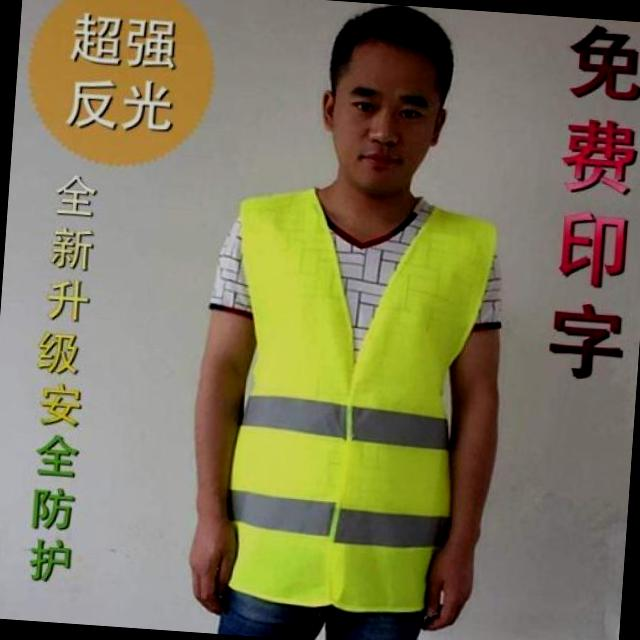no-gloves: (413, 536, 487, 630), (176, 512, 247, 609)
no-helmet: (313, 0, 462, 195)
vest: (202, 187, 496, 622)
